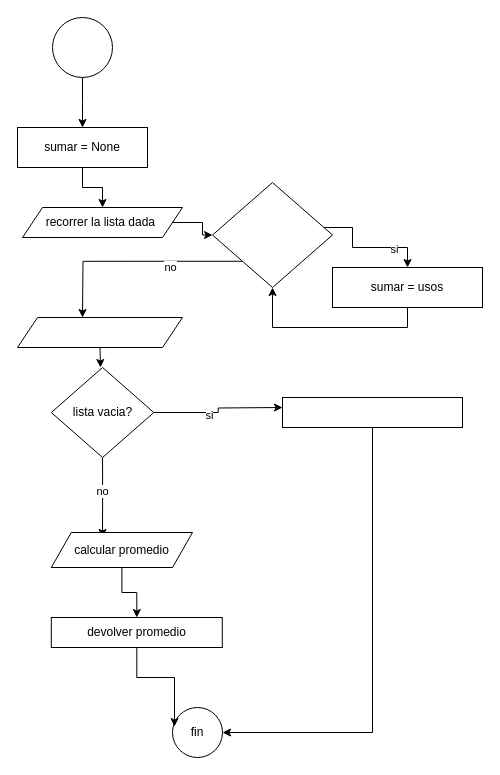
Image size: 500x775. Some labels were removed from this diagram. Each missing label, with the centre of its shape:
devolver = "no se puede dividir x 0": point 372,412
inicio: point 82,47
sumar == None?: point 272,235
sumar usos: point 99,332
